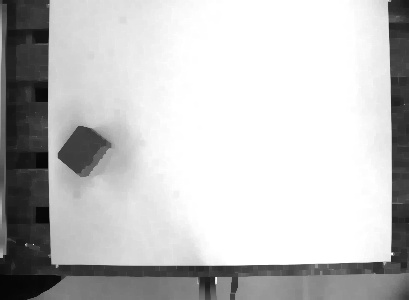b7: (53, 120, 115, 182)
